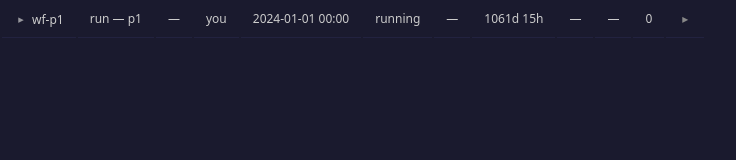
Test case: expanding a row fetches and renders its children nested
The image size is (736, 160).
What coordinates should you click on to do the following:
click the button named "Show child runs of run — p1"
I would click on:
 (21, 20)
Its box is left=14, top=14, right=28, bottom=25.
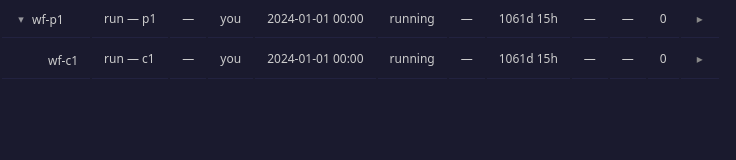
Expected: the text "wf-c1" is shown, left=48, top=52, right=78, bottom=68
